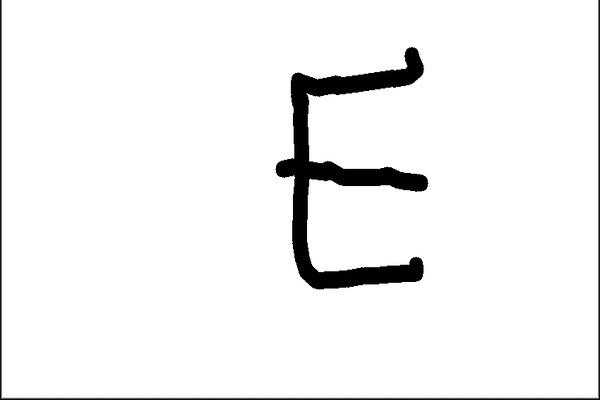E: (269, 40, 444, 298)
